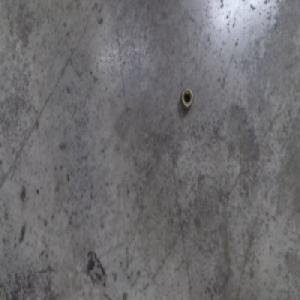Nut: (180, 86, 193, 109)
